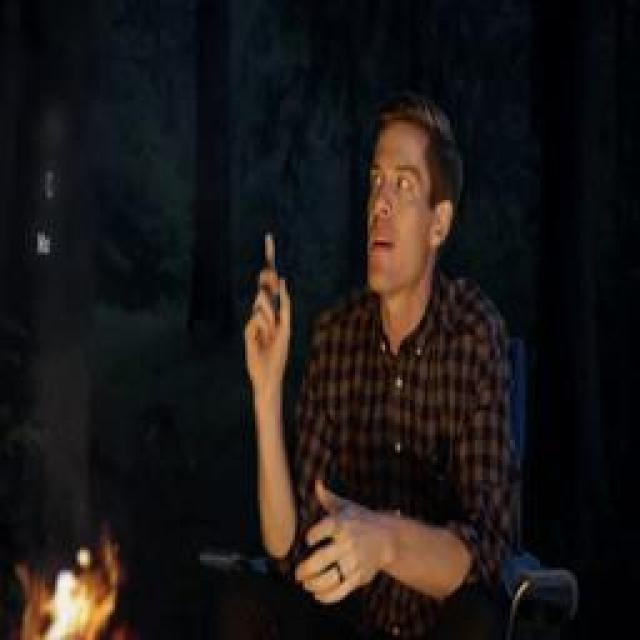Fire: (14, 535, 124, 640)
